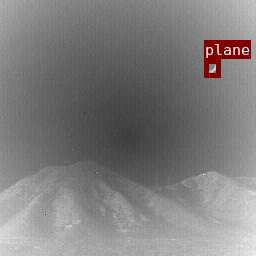plane: (204, 59, 220, 77)
